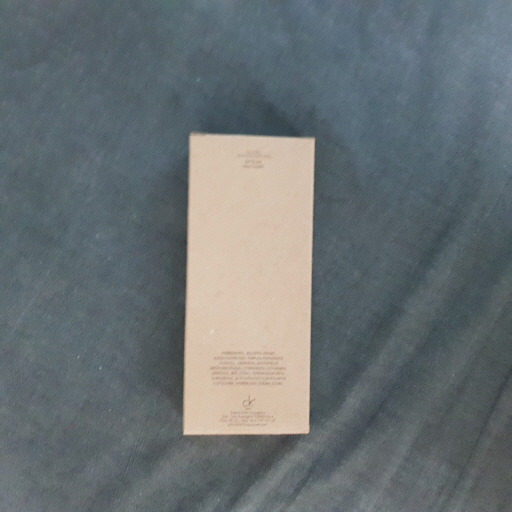Paper_0: (171, 124, 321, 448)
